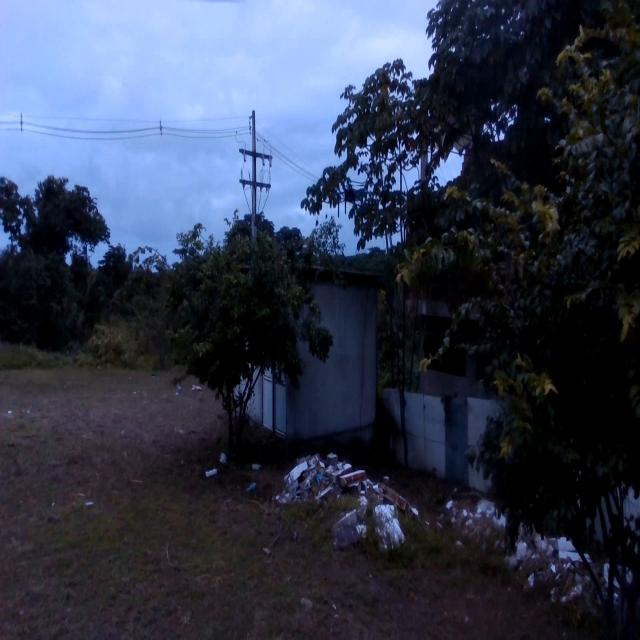-uav-: (316, 178, 356, 228)
